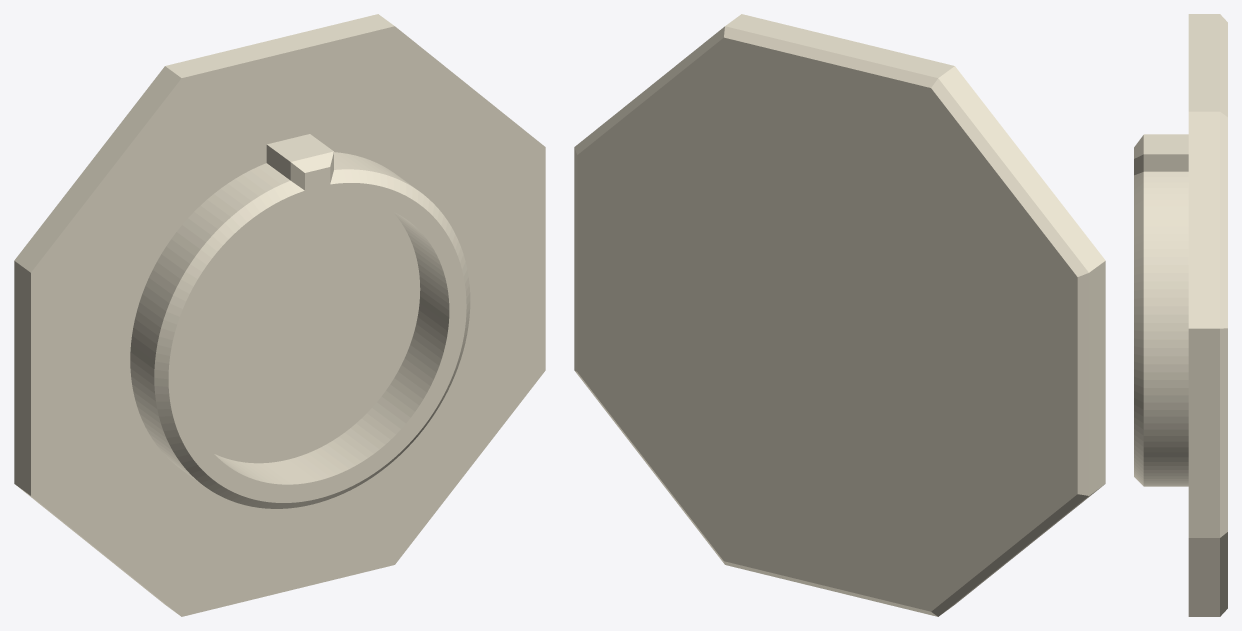
File: coupon-if2-collar@ivory.glb
3 views of the same model, side by side, from view 1: azimuth 30°, elevation 25°; view 2: azimuth 150°, elevation 25°; view 3: azimuth 270°, elevation 25° (orthographic). The views are drawn at different scales.
Visible parts, largest first — view 1: geometry_0; view 2: geometry_0; view 3: geometry_0.
Boxes of the visible parts, x1,y1,x2,y2 form: geometry_0: [14, 14, 545, 616]; geometry_0: [574, 14, 1105, 616]; geometry_0: [1134, 14, 1227, 616].
Size of the model in its own units: 28.5 by 28.5 by 4.8.
